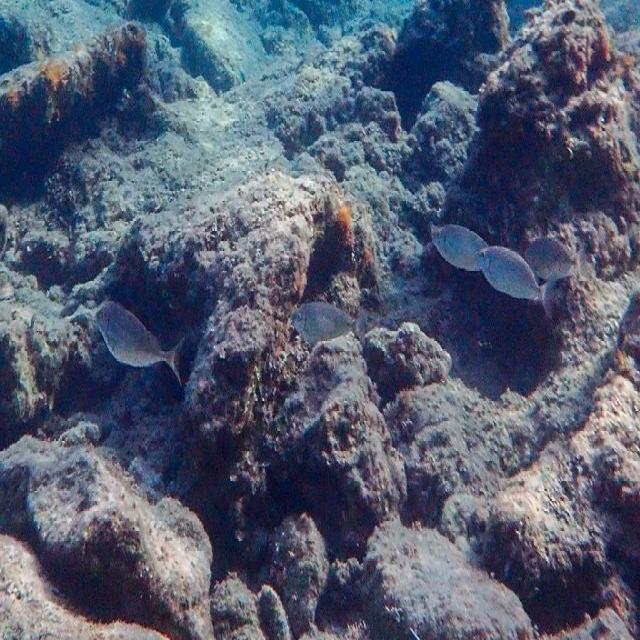Sokar Baligi: (85, 279, 191, 400), (281, 282, 373, 349)
